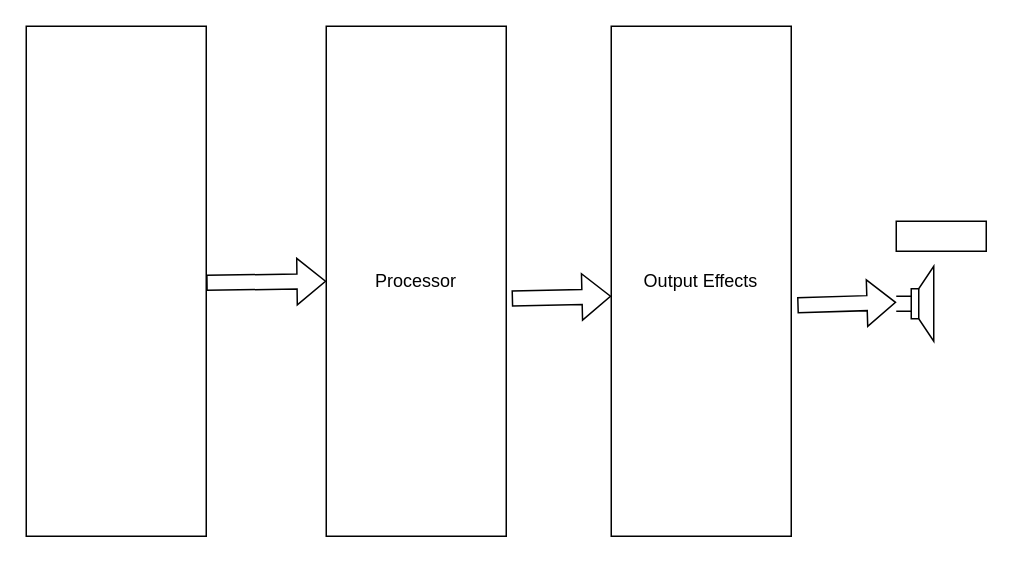
This 1013x563 diagram has some shape labels left out. The shapes that lost their labels are listed below. From the top down, each one's centre as x and y in pixels, then its label:
point (940, 235): Speaker
point (115, 280): Inputs
